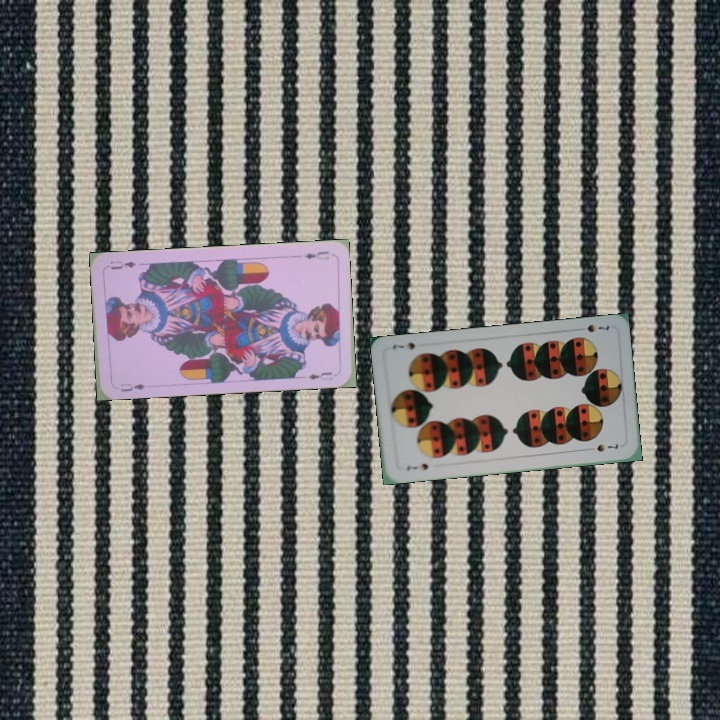EU: (300, 247, 332, 262), (117, 379, 148, 394)
S7: (573, 320, 612, 335), (402, 459, 431, 473)
